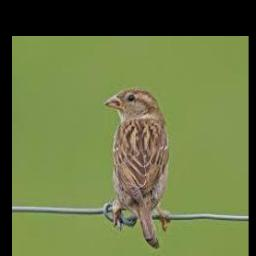Sparrow: (104, 86, 168, 247)
